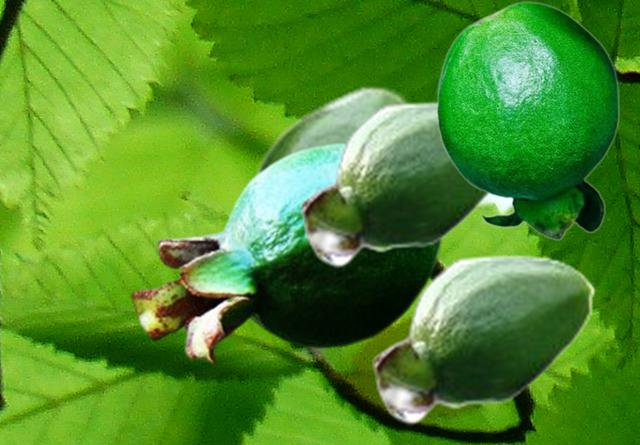guava: (130, 141, 442, 365), (435, 1, 619, 239), (372, 253, 595, 424), (300, 100, 492, 267), (248, 84, 410, 179)
